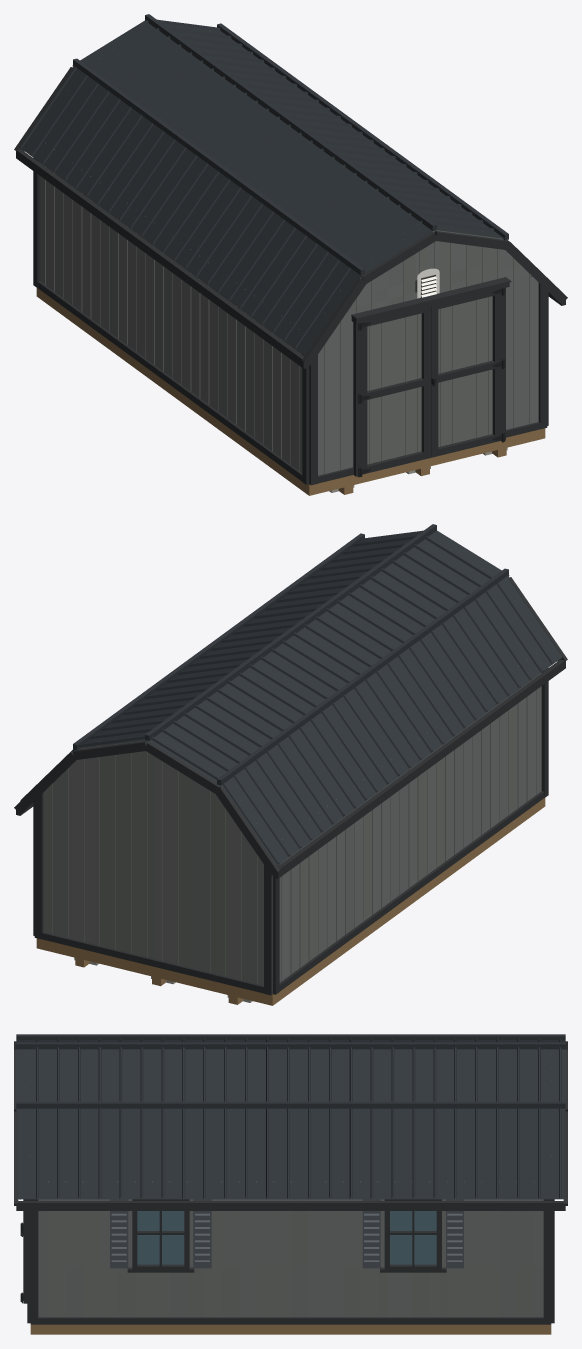
File: 05-classic-lofted-barn-shutters.glb
3 views of the same model, one above another, from view 1: azimuth 30°, elevation 25°; view 2: azimuth 150°, elevation 25°; view 3: azimuth 270°, elevation 25° (orthographic). The views are drawn at different scales.
Visible parts, largest first — view 1: Main roof, left wall, front wall double, front wall, Floor platform and skids, front wall vent; view 2: Main roof, rear wall, left wall, Floor platform and skids; view 3: Main roof, right wall, right wall window, Floor platform and skids, Louvered window shutters, front wall double, front wall, rear wall.
Part boxes in pixels (left/top/right/bottom): Main roof: left=14, top=14, right=567, bottom=368; left wall: left=33, top=142, right=309, bottom=484; front wall double: left=351, top=277, right=511, bottom=477; front wall: left=309, top=229, right=547, bottom=485; Floor platform and skids: left=36, top=288, right=545, bottom=495; front wall vent: left=417, top=268, right=439, bottom=298; Main roof: left=14, top=524, right=567, bottom=878; rear wall: left=34, top=739, right=272, bottom=995; left wall: left=272, top=653, right=548, bottom=994; Floor platform and skids: left=36, top=798, right=545, bottom=1005; Main roof: left=14, top=1034, right=567, bottom=1210; right wall: left=30, top=1181, right=551, bottom=1324; right wall window: left=127, top=1199, right=446, bottom=1272; Floor platform and skids: left=30, top=1324, right=551, bottom=1334; Louvered window shutters: left=110, top=1199, right=463, bottom=1268; front wall double: left=20, top=1199, right=27, bottom=1303; front wall: left=27, top=1054, right=30, bottom=1323; rear wall: left=551, top=1054, right=554, bottom=1323.
Size of the model in its own units: 3.4 by 3.18 by 6.49.
